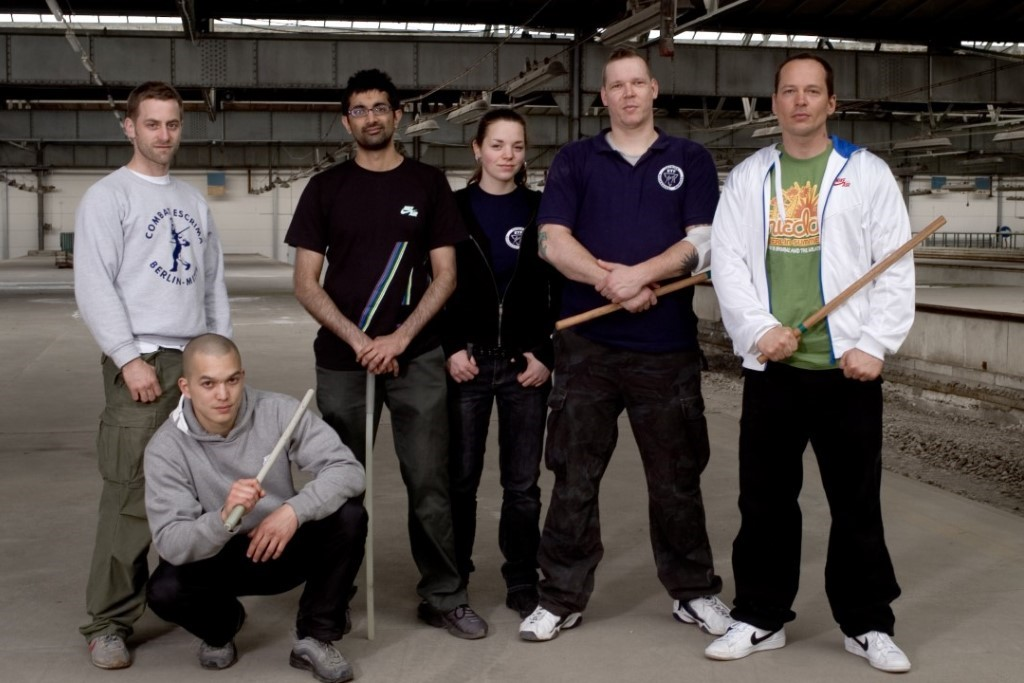baston_e: (764, 218, 937, 362), (231, 391, 309, 528), (561, 277, 694, 331), (360, 371, 376, 637)
baston_v: (550, 316, 568, 338), (932, 209, 950, 227), (751, 351, 770, 368), (305, 383, 319, 400), (222, 516, 237, 530), (695, 268, 710, 282), (366, 631, 377, 642)
